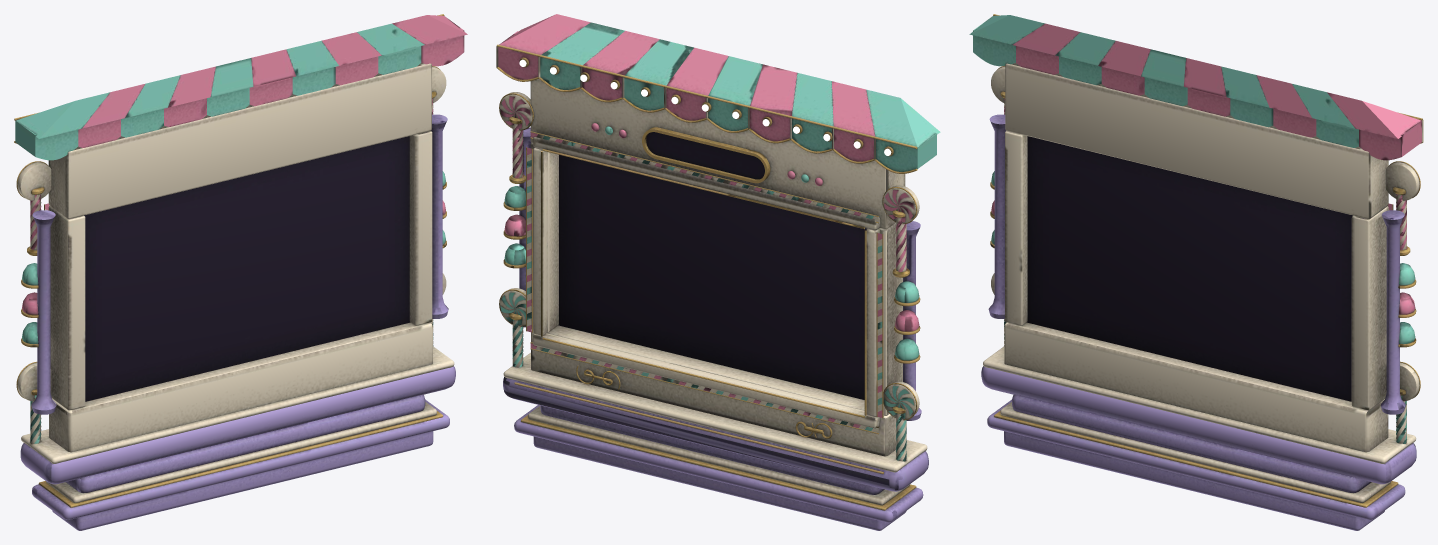
3 renders of one model, left to right at view 1: azimuth 30°, elevation 25°; view 2: azimuth 150°, elevation 25°; view 3: azimuth 330°, elevation 25°, orthographic. The views are drawn at different scales.
Parts seen in each view (by area): view 1: Vanilla_porcelain, Uniform_plum_inset, Lilac_enamel, Mint_candy, Strawberry_candy, Champagne_gold; view 2: Vanilla_porcelain, Uniform_plum_inset, Lilac_enamel, Mint_candy, Strawberry_candy, Champagne_gold, Canopy_bulb_glow; view 3: Vanilla_porcelain, Uniform_plum_inset, Lilac_enamel, Strawberry_candy, Mint_candy, Champagne_gold.
Boxes of the visible parts, x1=… form: Vanilla_porcelain: x1=17, y1=15, x2=454, y2=502; Uniform_plum_inset: x1=84, y1=136, x2=410, y2=401; Lilac_enamel: x1=20, y1=114, x2=455, y2=530; Mint_candy: x1=15, y1=23, x2=445, y2=443; Strawberry_candy: x1=22, y1=15, x2=467, y2=314; Champagne_gold: x1=14, y1=14, x2=446, y2=507; Vanilla_porcelain: x1=496, y1=46, x2=927, y2=505; Uniform_plum_inset: x1=558, y1=132, x2=866, y2=399; Lilac_enamel: x1=503, y1=127, x2=928, y2=530; Mint_candy: x1=500, y1=22, x2=940, y2=461; Strawberry_candy: x1=498, y1=14, x2=919, y2=427; Champagne_gold: x1=497, y1=44, x2=920, y2=510; Canopy_bulb_glow: x1=519, y1=59, x2=891, y2=155; Vanilla_porcelain: x1=983, y1=63, x2=1423, y2=503; Uniform_plum_inset: x1=1027, y1=136, x2=1352, y2=401; Lilac_enamel: x1=981, y1=114, x2=1416, y2=530; Strawberry_candy: x1=991, y1=23, x2=1421, y2=314; Mint_candy: x1=969, y1=15, x2=1415, y2=443; Champagne_gold: x1=990, y1=14, x2=1422, y2=507.
Size of the model in its own units: 10.74 by 10.2 by 1.66.
7 materials, 6 textured.
